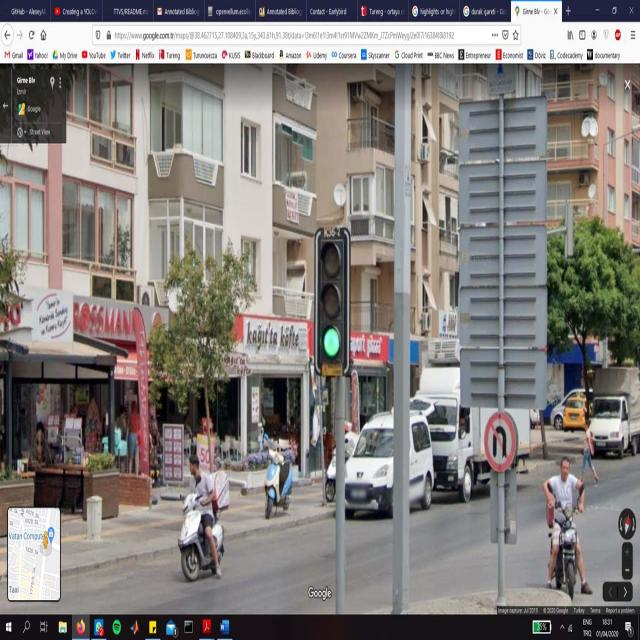yesil: (317, 228, 349, 370)
